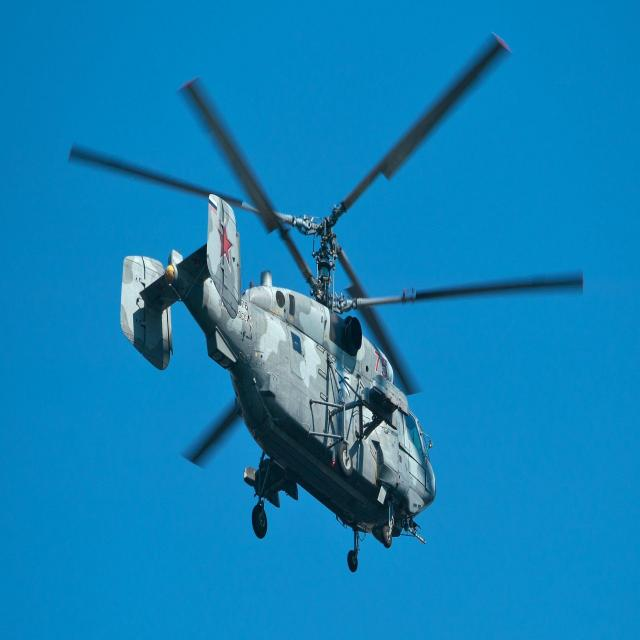MIL_HELO: (55, 29, 599, 576)
